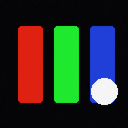2 circle: (91, 78, 117, 104)
